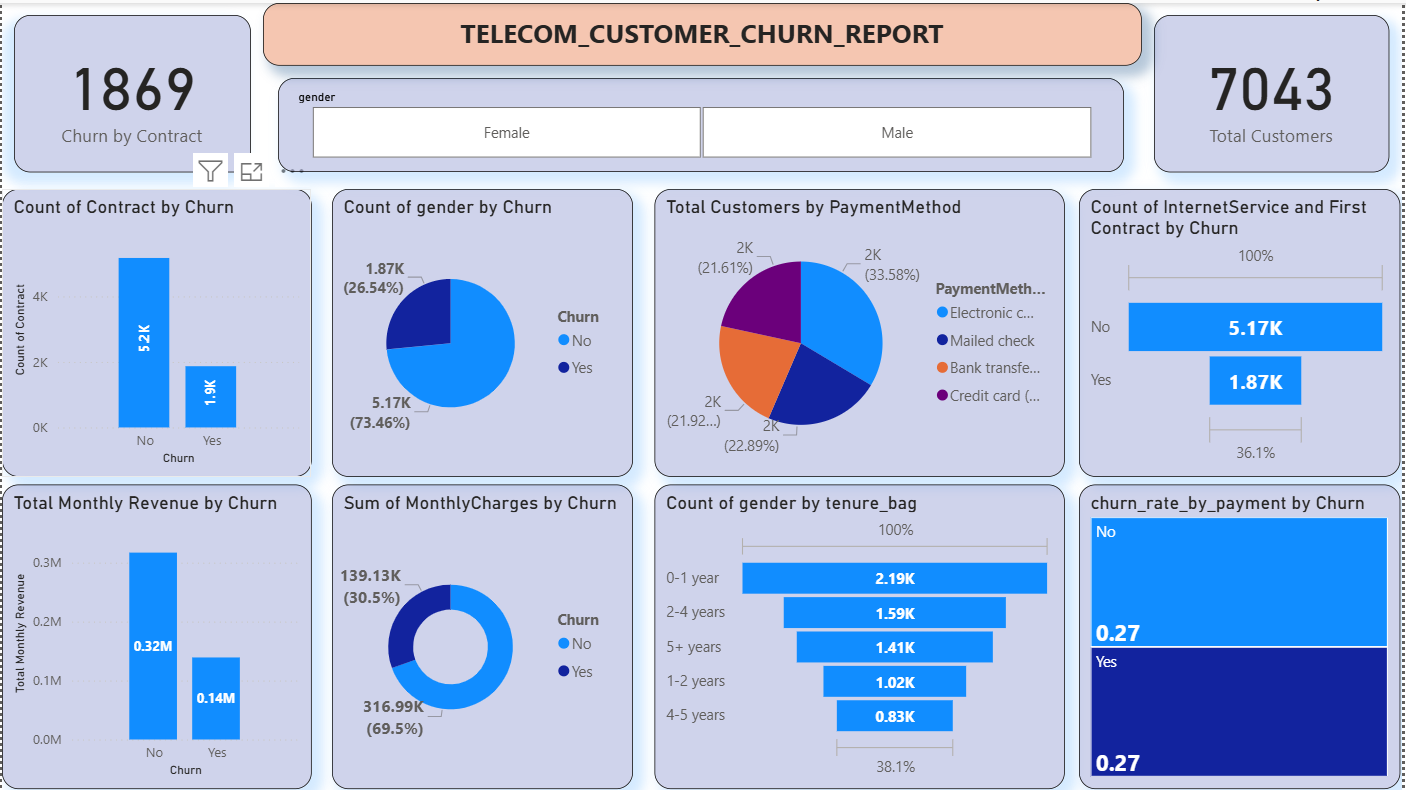

Layout of this report page (visuals, bound fields, positions):
{"tool":"powerbi","page":{"name":"Page 1","canvas":[1280,720],"ordinal":0},"visuals":[{"type":"card","fields":{"Values":["Telco_Customer_Churn_Dataset.Churn by Contract"]},"box":[10.6,10.6,216.5,143.8],"z":0},{"type":"card","fields":{"Values":["Telco_Customer_Churn_Dataset.Total Customers"]},"box":[1053.9,10.6,215,143.8],"z":1000},{"type":"columnChart","fields":{"Category":["Telco_Customer_Churn_Dataset.Churn"],"Y":["CountNonNull(Telco_Customer_Churn_Dataset.Contract)"]},"box":[0,169.6,283.2,263.5],"z":2000},{"type":"pieChart","fields":{"Y":["CountNonNull(Telco_Customer_Churn_Dataset.gender)"],"Category":["Telco_Customer_Churn_Dataset.Churn"]},"box":[301.3,169.6,275.6,263.5],"z":3000},{"type":"pieChart","fields":{"Category":["Telco_Customer_Churn_Dataset.PaymentMethod"],"Y":["Telco_Customer_Churn_Dataset.Total Customers"]},"box":[596.6,169.6,375.5,263.5],"z":4000},{"type":"funnel","fields":{"Category":["Telco_Customer_Churn_Dataset.Churn"],"Y":["CountNonNull(Telco_Customer_Churn_Dataset.InternetService)"]},"box":[985.7,169.6,293.8,263.5],"z":5000},{"type":"funnel","fields":{"Y":["CountNonNull(Telco_Customer_Churn_Dataset.gender)"],"Category":["Telco_Customer_Churn_Dataset.tenure_bag"]},"box":[596.6,440.6,375.5,278.6],"z":6000},{"type":"donutChart","fields":{"Y":["Sum(Telco_Customer_Churn_Dataset.MonthlyCharges)"],"Category":["Telco_Customer_Churn_Dataset.Churn"]},"box":[301.3,440.6,275.6,278.6],"z":7000},{"type":"clusteredColumnChart","fields":{"Y":["Telco_Customer_Churn_Dataset.Total Monthly Revenue"],"Category":["Telco_Customer_Churn_Dataset.Churn"]},"box":[0,440.6,283.2,278.6],"z":8000},{"type":"treemap","fields":{"Group":["Telco_Customer_Churn_Dataset.Churn"],"Values":["Telco_Customer_Churn_Dataset.churn_rate_by_payment"]},"box":[985.7,440.6,293.8,278.6],"z":9000},{"type":"slicer","fields":{"Values":["Telco_Customer_Churn_Dataset.gender"]},"box":[252.9,68.1,773.8,86.3],"z":10000},{"type":"textbox","box":[239.2,0,804,57.5],"z":11000}]}

Visuals, with their boxes in screenshot pixels (x1, y1, x2, y2), scaled from the page's 1280x720 canvas onto the 1406x790 screenshot:
card - Telco_Customer_Churn_Dataset.Churn by Contract: left=12, top=12, right=249, bottom=169
card - Telco_Customer_Churn_Dataset.Total Customers: left=1158, top=12, right=1394, bottom=169
columnChart - Telco_Customer_Churn_Dataset.Churn x CountNonNull(Telco_Customer_Churn_Dataset.Contract): left=0, top=186, right=311, bottom=475
pieChart - CountNonNull(Telco_Customer_Churn_Dataset.gender) x Telco_Customer_Churn_Dataset.Churn: left=331, top=186, right=634, bottom=475
pieChart - Telco_Customer_Churn_Dataset.PaymentMethod x Telco_Customer_Churn_Dataset.Total Customers: left=655, top=186, right=1068, bottom=475
funnel - Telco_Customer_Churn_Dataset.Churn x CountNonNull(Telco_Customer_Churn_Dataset.InternetService): left=1083, top=186, right=1405, bottom=475
funnel - CountNonNull(Telco_Customer_Churn_Dataset.gender) x Telco_Customer_Churn_Dataset.tenure_bag: left=655, top=483, right=1068, bottom=789
donutChart - Sum(Telco_Customer_Churn_Dataset.MonthlyCharges) x Telco_Customer_Churn_Dataset.Churn: left=331, top=483, right=634, bottom=789
clusteredColumnChart - Telco_Customer_Churn_Dataset.Total Monthly Revenue x Telco_Customer_Churn_Dataset.Churn: left=0, top=483, right=311, bottom=789
treemap - Telco_Customer_Churn_Dataset.Churn x Telco_Customer_Churn_Dataset.churn_rate_by_payment: left=1083, top=483, right=1405, bottom=789
slicer - Telco_Customer_Churn_Dataset.gender: left=278, top=75, right=1128, bottom=169
textbox: left=263, top=0, right=1146, bottom=63
